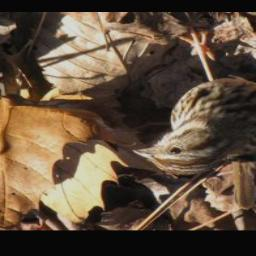Sparrow: (128, 20, 256, 177)
